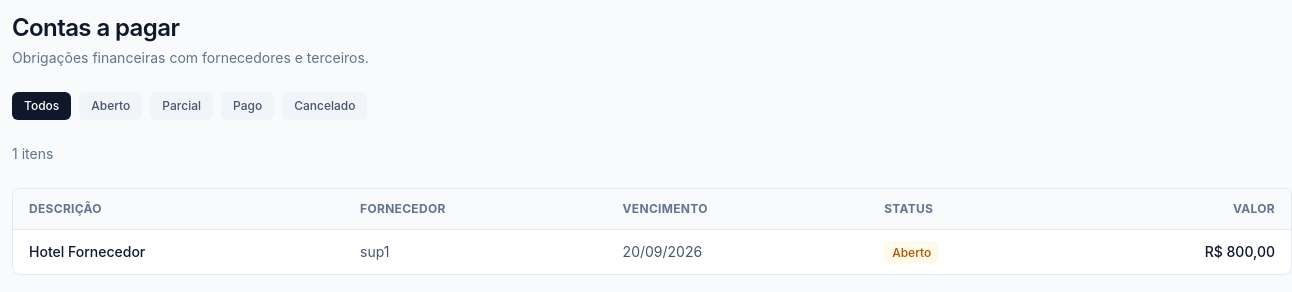
Scenario: PayablesPage › filters by status
The width and height of the screenshot is (1292, 292).
Expected: the text "Hotel Fornecedor" is shown, [13,230,344,274]
Click the button "Pago".
click(248, 106)  # box [221,92,274,120]
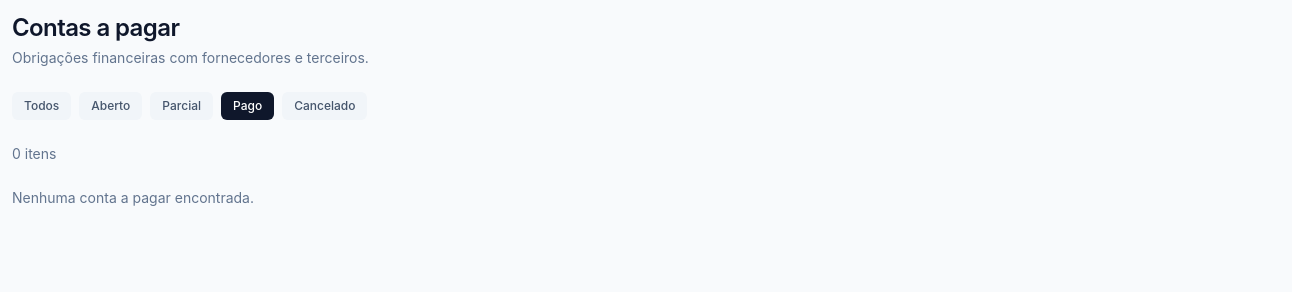
Result: the text "Nenhuma conta a pagar encontrada." is shown at [12,189,254,206]
